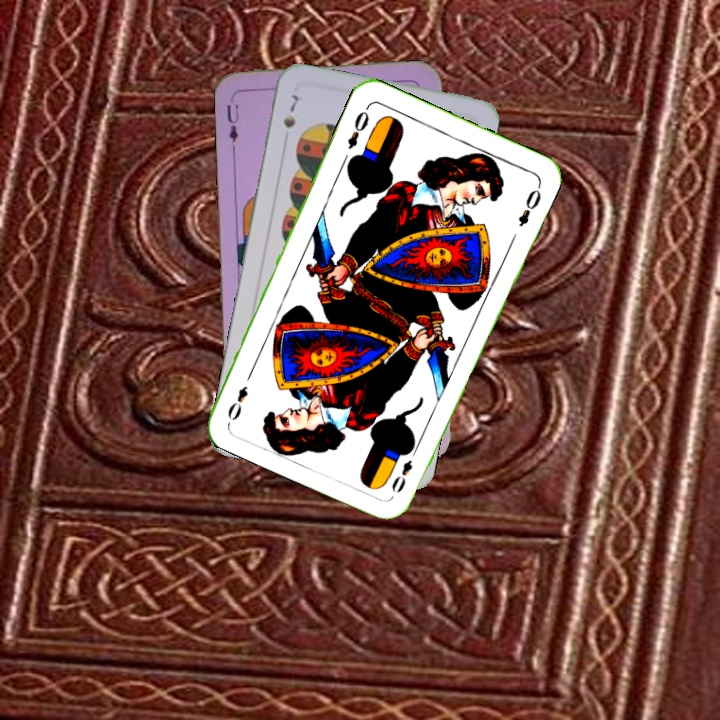EO: (387, 442, 421, 496), (343, 102, 372, 152)
EU: (222, 90, 242, 149)
S7: (279, 90, 301, 131)
